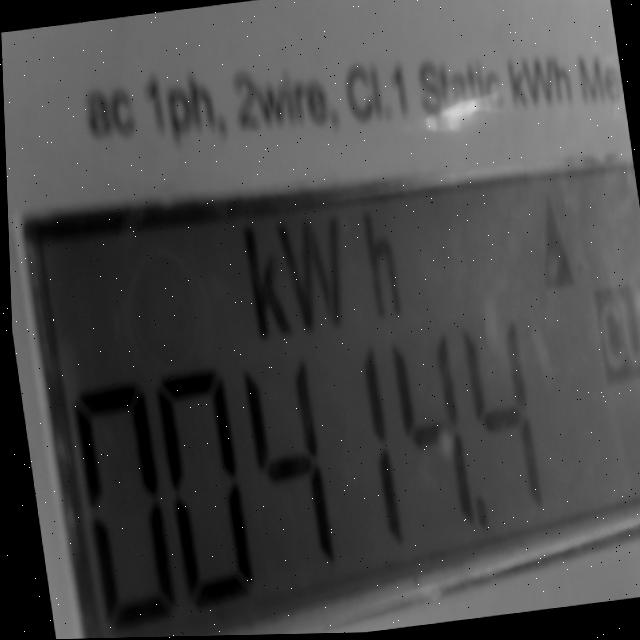.: (466, 491, 491, 537)
0: (61, 360, 181, 639), (145, 353, 260, 620)
1: (340, 345, 417, 557)
4: (234, 350, 344, 587), (379, 326, 479, 540), (455, 309, 552, 525)
